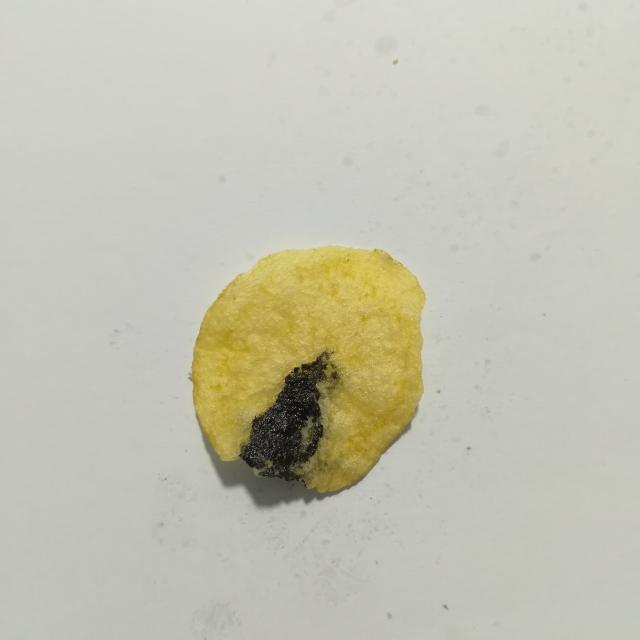chip: (191, 246, 425, 492)
damaged: (240, 351, 338, 481)
